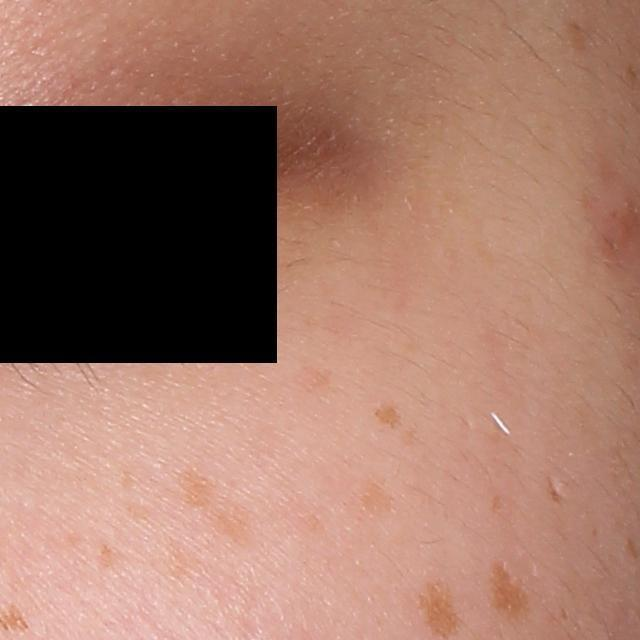atrophic_scar: (547, 476, 568, 508)
melasma: (180, 464, 253, 549), (487, 553, 535, 627), (358, 474, 397, 518), (368, 400, 406, 432), (93, 542, 122, 574), (488, 495, 506, 514)
